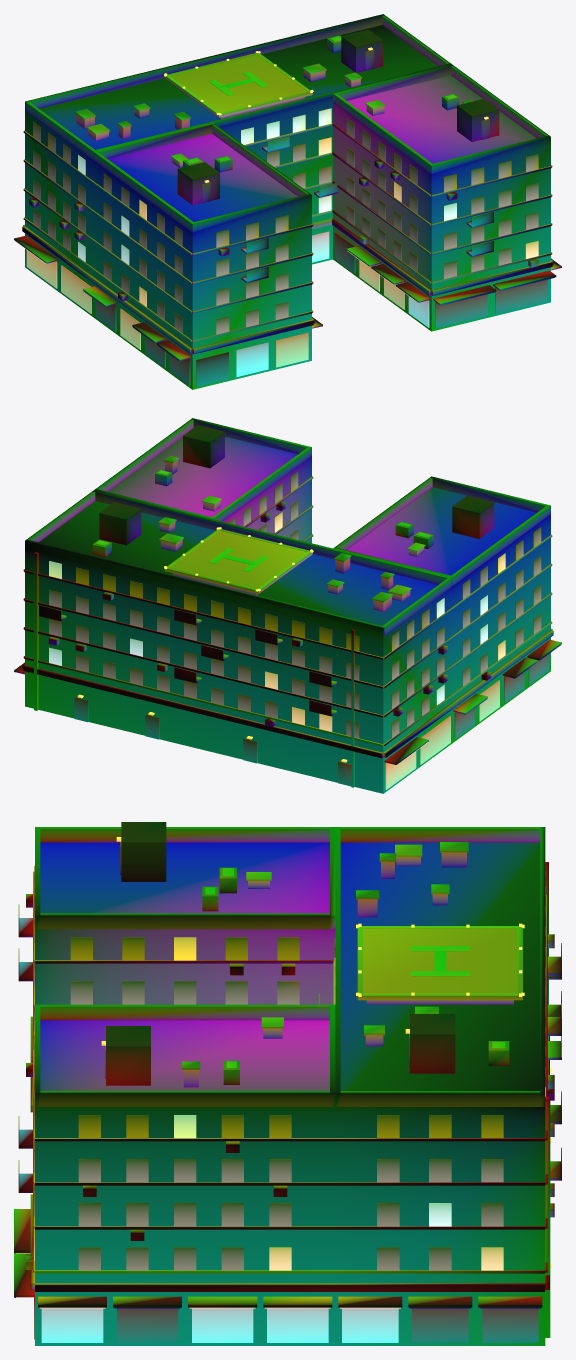
The model's file is Block_Court.fbx.
3 views of the same model, one above another, from view 1: azimuth 30°, elevation 25°; view 2: azimuth 150°, elevation 25°; view 3: azimuth 270°, elevation 25° (orthographic). The views are drawn at different scales.
Visible parts, largest first — view 1: Block_Court_LOD0; view 2: Block_Court_LOD0; view 3: Block_Court_LOD0.
Part boxes in pixels (x1,y1,x2,y2): Block_Court_LOD0: (14, 14, 561, 389); Block_Court_LOD0: (14, 418, 561, 793); Block_Court_LOD0: (14, 822, 561, 1345).
Size of what is drawn, in the model's own units: 44.8 by 20.46 by 36.5.
